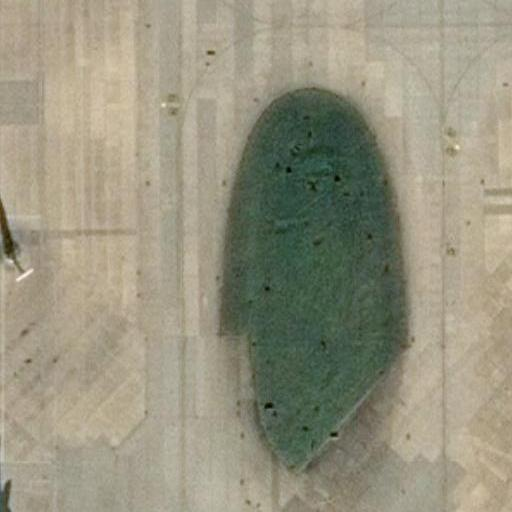Aircraft: (0, 494, 33, 512), (0, 494, 29, 512)
